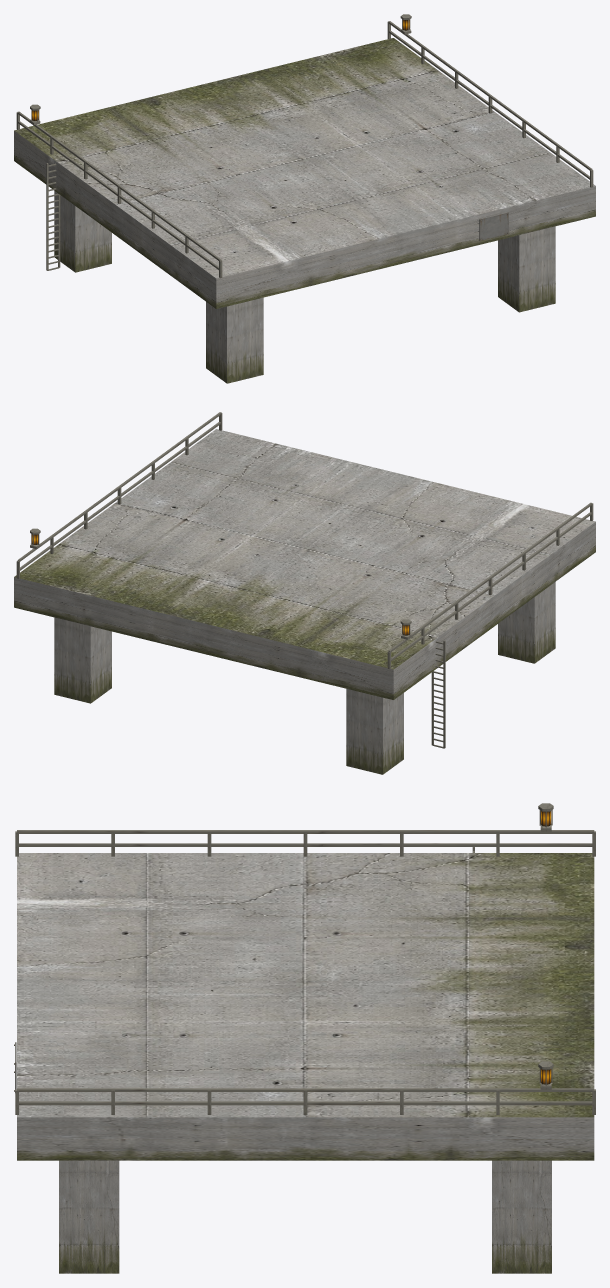
The model's file is mangrove-pier.glb.
3 views of the same model, one above another, from view 1: azimuth 30°, elevation 25°; view 2: azimuth 150°, elevation 25°; view 3: azimuth 270°, elevation 25° (orthographic). The views are drawn at different scales.
Parts seen in each view (by area): view 1: mangrove-pier_concrete, mangrove-pier_metal; view 2: mangrove-pier_concrete, mangrove-pier_metal; view 3: mangrove-pier_concrete, mangrove-pier_metal.
Boxes of the visible parts, box(x1,y1,x2,y2) form: mangrove-pier_concrete: box(14, 38, 595, 383); mangrove-pier_metal: box(16, 14, 593, 278); mangrove-pier_concrete: box(14, 429, 595, 774); mangrove-pier_metal: box(16, 412, 593, 748); mangrove-pier_concrete: box(17, 853, 594, 1273); mangrove-pier_metal: box(14, 803, 595, 1114).
Bounding box in the file's own units: 26.65 × 10.3 × 24.2.
3 materials, 3 textured.
